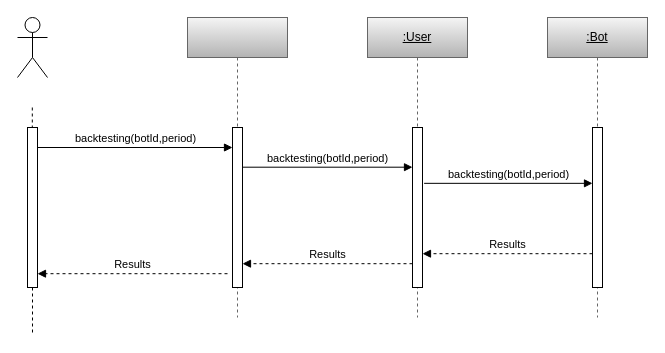
Image size: 665x353. Some labels were removed from this diagram. The shapes that lost their labels are listed below. From the top down, each one's box as (x1, y1, x2, y2) in pixels, then its label:
(16, 16, 48, 78): User
(186, 16, 288, 318): <<Controller>> :TradingHandler
